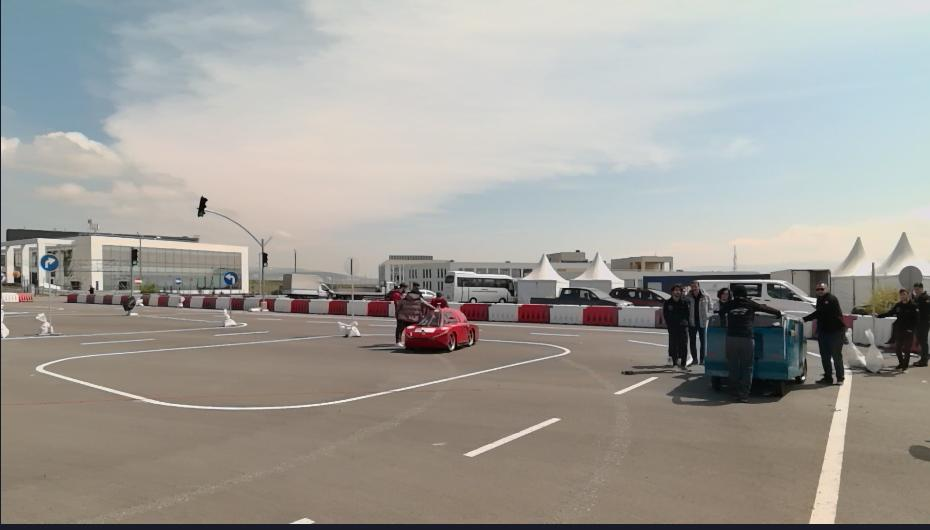nesne: (0, 300, 853, 525), (0, 318, 676, 524), (282, 363, 854, 525), (36, 330, 567, 408), (706, 285, 807, 402), (717, 285, 784, 400), (810, 369, 854, 526), (1, 318, 247, 340), (801, 279, 848, 382), (458, 303, 656, 327), (699, 279, 817, 319), (463, 414, 561, 459), (401, 307, 478, 348), (206, 209, 275, 254), (878, 291, 914, 366), (444, 270, 515, 303), (663, 286, 689, 371), (688, 280, 710, 368), (529, 286, 629, 304), (134, 292, 227, 310), (909, 281, 928, 366), (401, 278, 437, 321), (281, 273, 334, 299), (606, 287, 666, 305), (391, 277, 407, 344), (614, 374, 659, 395), (848, 315, 874, 349), (866, 329, 886, 373), (872, 315, 896, 351), (617, 304, 654, 327), (846, 323, 865, 367), (580, 305, 620, 325), (483, 302, 519, 324), (549, 303, 583, 325), (65, 293, 127, 305), (517, 304, 550, 326), (460, 302, 487, 323), (36, 312, 55, 335), (365, 302, 390, 319), (337, 318, 359, 337), (306, 299, 331, 315), (717, 288, 735, 308), (40, 252, 59, 270), (345, 301, 367, 316), (274, 295, 292, 313), (222, 270, 240, 286), (329, 300, 347, 316), (48, 270, 52, 337), (289, 299, 308, 313), (629, 338, 666, 345), (221, 310, 238, 325), (433, 288, 448, 304), (123, 295, 136, 313), (532, 331, 578, 336), (0, 309, 8, 336), (250, 299, 267, 311), (0, 292, 18, 303), (197, 197, 208, 215), (244, 298, 259, 311), (200, 296, 216, 308), (227, 286, 233, 318), (289, 515, 314, 522), (260, 266, 266, 295), (214, 296, 228, 308), (189, 296, 204, 307), (265, 298, 277, 311), (17, 292, 34, 301), (132, 294, 143, 307), (232, 298, 244, 309), (157, 296, 169, 306), (102, 296, 113, 306), (168, 296, 179, 306), (131, 248, 137, 265), (119, 296, 129, 306), (148, 296, 158, 306), (112, 295, 121, 306), (141, 296, 150, 307), (83, 296, 95, 304), (260, 252, 268, 264), (130, 265, 133, 296), (184, 296, 191, 309), (93, 296, 103, 305), (67, 295, 77, 303), (176, 295, 183, 306), (78, 295, 85, 304)
